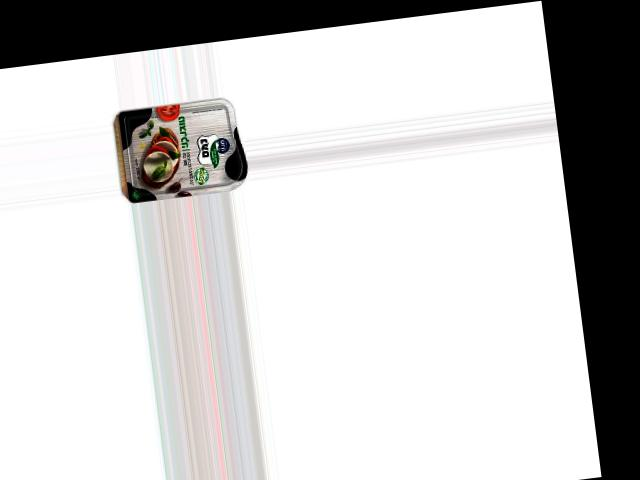cheese: (116, 95, 248, 203)
